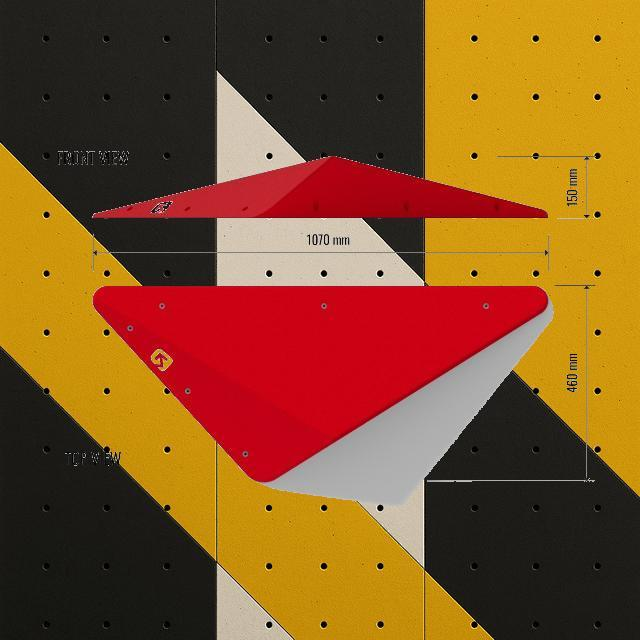Volume: (91, 284, 546, 482), (90, 154, 548, 218)
